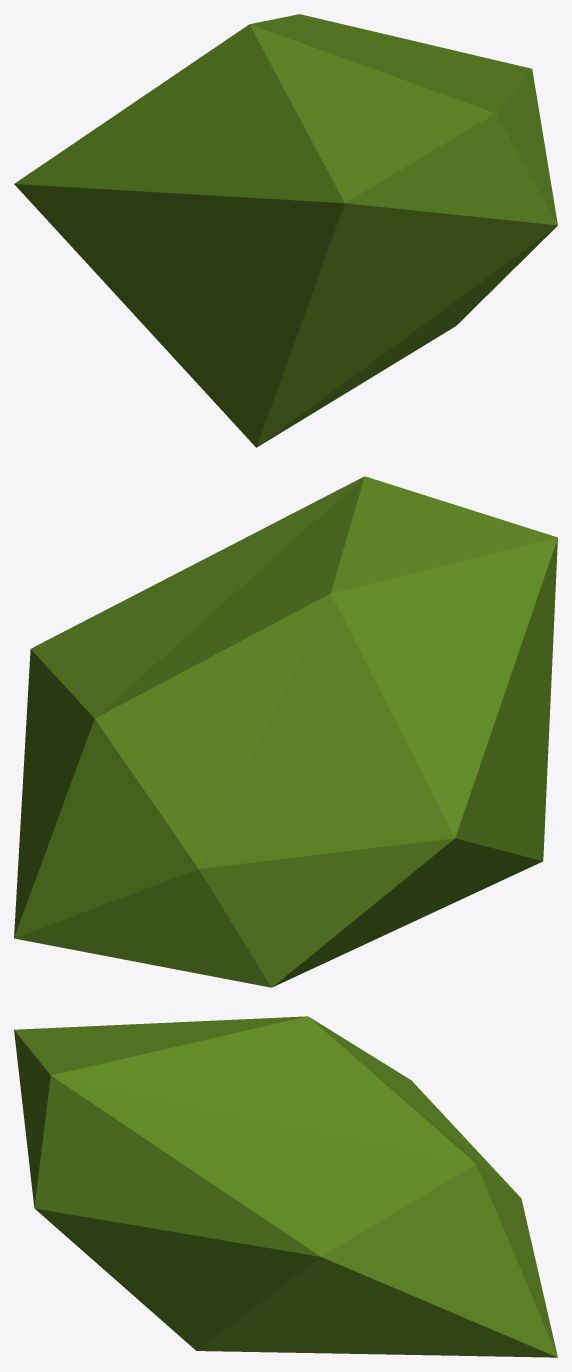
Rendered from bush3.fbx.
3 renders of one model, top to bottom at view 1: azimuth 30°, elevation 25°; view 2: azimuth 150°, elevation 25°; view 3: azimuth 270°, elevation 25°, orthographic. The views are drawn at different scales.
Visible parts, largest first — view 1: Bush3; view 2: Bush3; view 3: Bush3.
Part boxes in pixels (left/top/right/bottom): Bush3: left=14, top=14, right=557, bottom=447; Bush3: left=14, top=476, right=557, bottom=987; Bush3: left=14, top=1016, right=557, bottom=1357.
Size of the model in its own units: 223 by 145 by 244.
